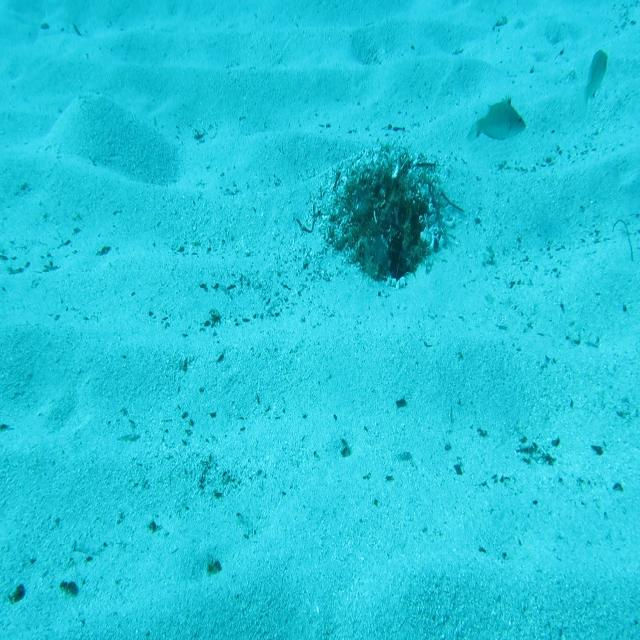MAF: (468, 91, 530, 152)
female: (569, 47, 615, 129)
nest: (325, 151, 456, 286)
